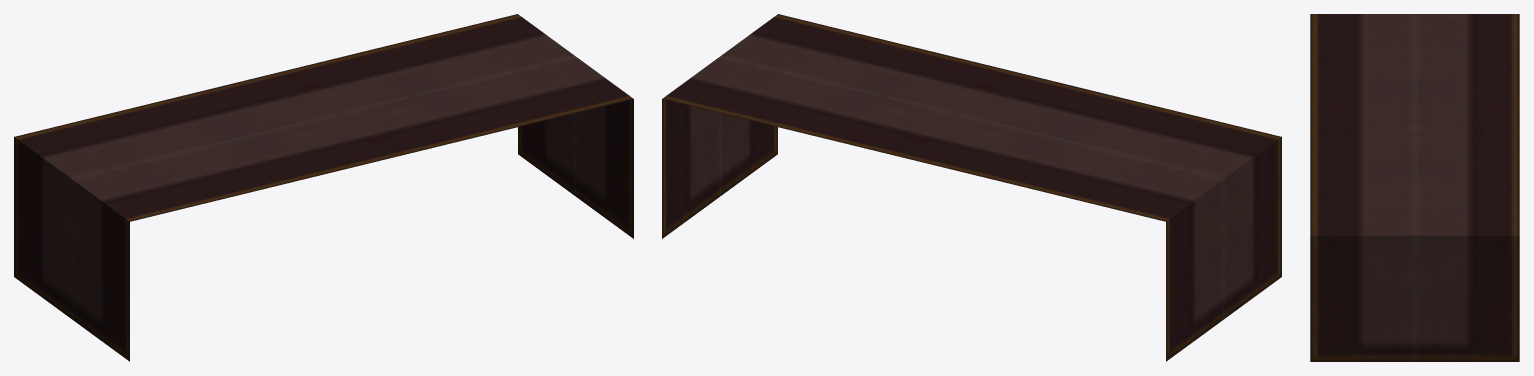
The model's file is Cover_3D.fbx.
The picture shows the model from 3 angles, left to right: view 1: azimuth 30°, elevation 25°; view 2: azimuth 150°, elevation 25°; view 3: azimuth 270°, elevation 25°; orthographic projection. The views are drawn at different scales.
Visible parts, largest first — view 1: polySurface7527; view 2: polySurface7527; view 3: polySurface7527.
Boxes of the visible parts, left/top/right/bottom form: polySurface7527: left=14, top=14, right=633, bottom=361; polySurface7527: left=662, top=14, right=1281, bottom=361; polySurface7527: left=1310, top=14, right=1519, bottom=361.
Bounding box in the file's own units: 3.01 × 0.8001 × 1.2.
